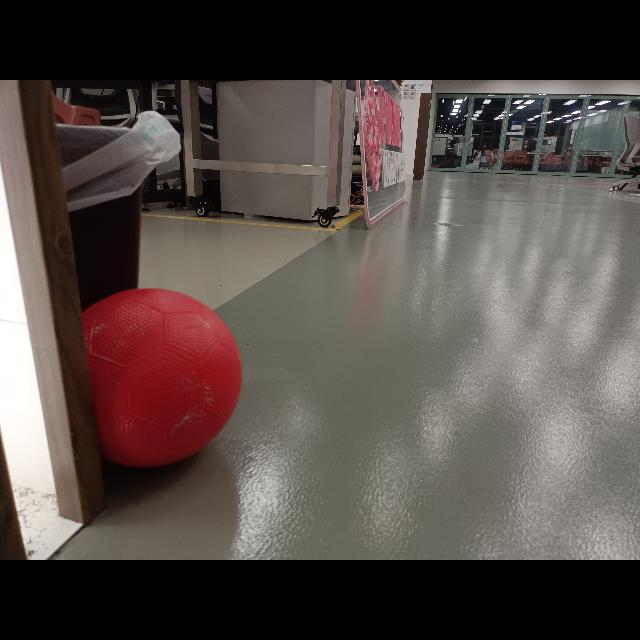R: (67, 280, 253, 480)
